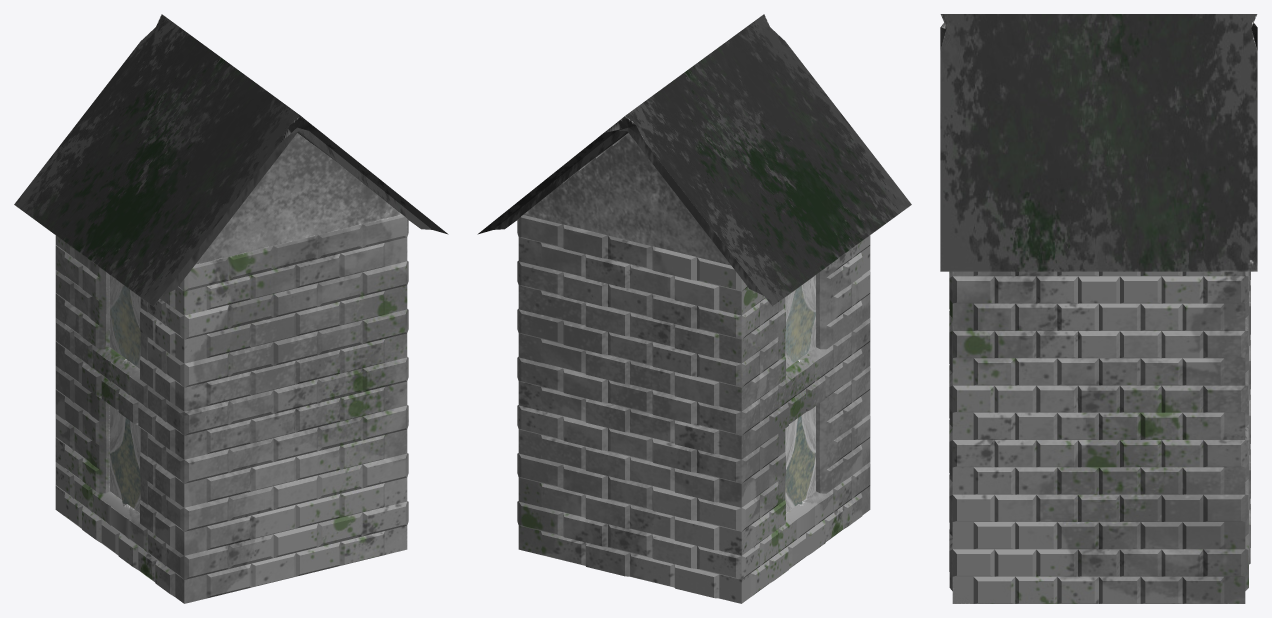
Rendered from maison_autre_terne.fbx.
3 renders of one model, left to right at view 1: azimuth 30°, elevation 25°; view 2: azimuth 150°, elevation 25°; view 3: azimuth 270°, elevation 25°, orthographic. The views are drawn at different scales.
Visible parts, largest first — view 1: maison, toit, haut_toit; view 2: maison, toit, haut_toit; view 3: maison, toit.
Boxes of the visible parts, left/top/right/bottom form: maison: left=55, top=214, right=408, bottom=603; toit: left=14, top=14, right=448, bottom=306; haut_toit: left=195, top=133, right=401, bottom=264; maison: left=517, top=215, right=870, bottom=603; toit: left=477, top=14, right=911, bottom=306; haut_toit: left=523, top=133, right=730, bottom=265; maison: left=949, top=271, right=1250, bottom=603; toit: left=940, top=14, right=1257, bottom=271.
Bounding box in the file's own units: 12.57 × 18.88 × 10.27.
